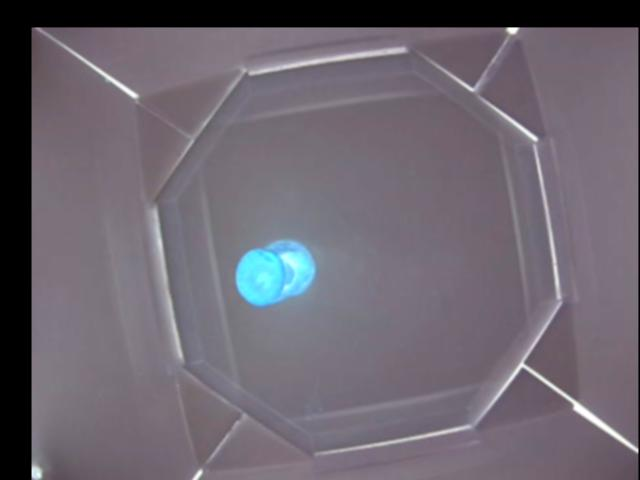Carrot: (235, 236, 314, 304)
